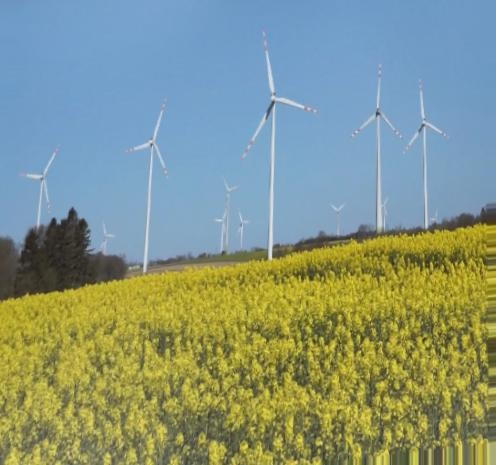wind turbine: (238, 31, 319, 258), (348, 61, 404, 240), (125, 99, 171, 271), (402, 79, 451, 235), (19, 143, 58, 234)
